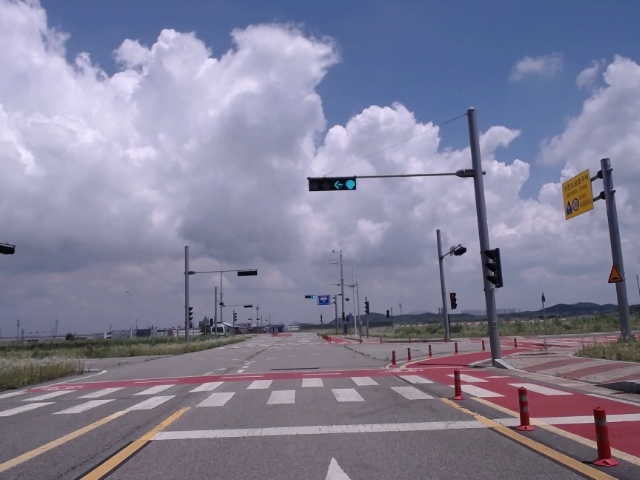all_green_4: (308, 179, 359, 192)
